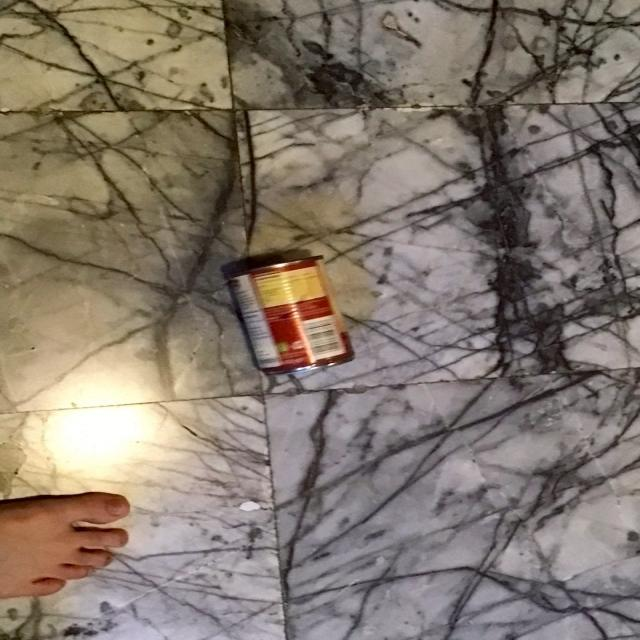can: (228, 255, 359, 377)
